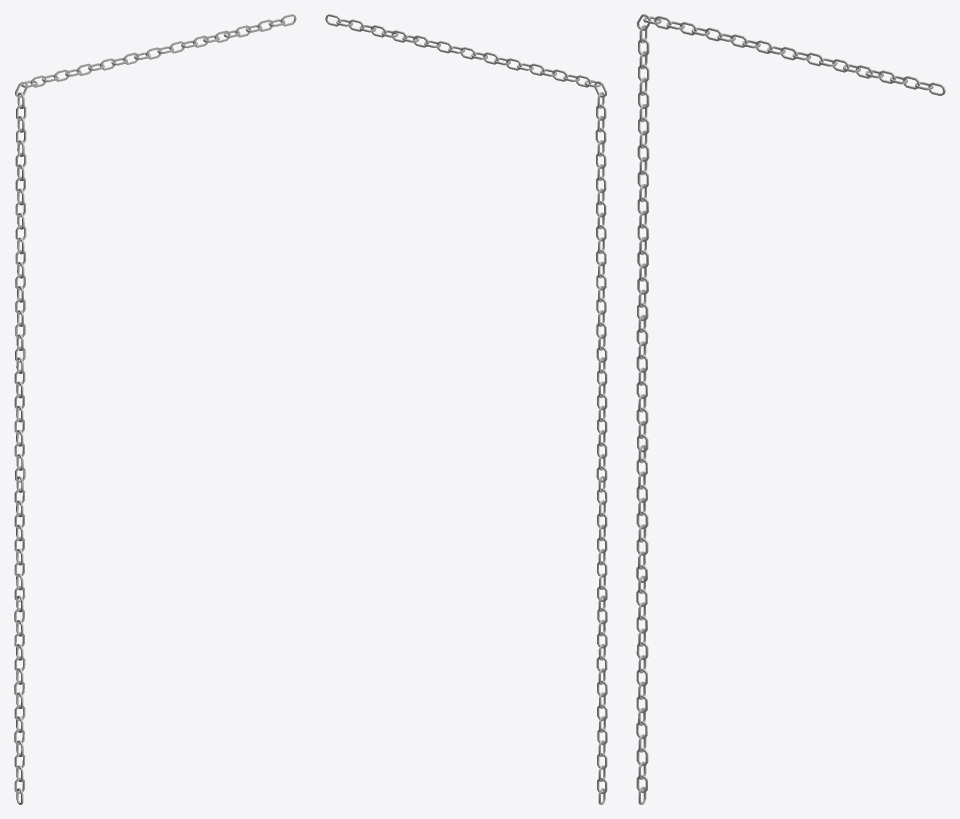
3 renders of one model, left to right at view 1: azimuth 30°, elevation 25°; view 2: azimuth 150°, elevation 25°; view 3: azimuth 330°, elevation 25°, orthographic. The views are drawn at different scales.
Parts seen in each view (by area): view 1: polySurface197; view 2: polySurface197; view 3: polySurface197.
Part boxes in pixels (box(x1,y1,x2,y2)): polySurface197: box(14, 14, 296, 804); polySurface197: box(325, 14, 607, 804); polySurface197: box(636, 14, 945, 804).
Bounding box in the file's own units: 92.77 × 228 × 3.27.
1 material, 1 textured.
